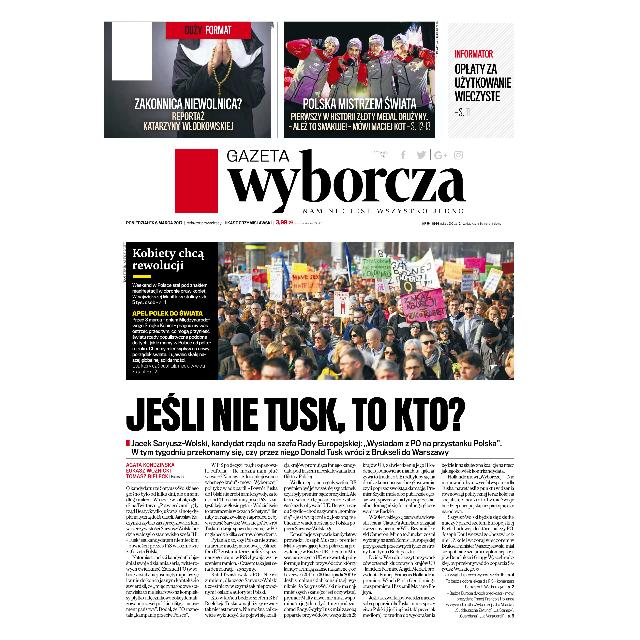article: (122, 392, 518, 620)
